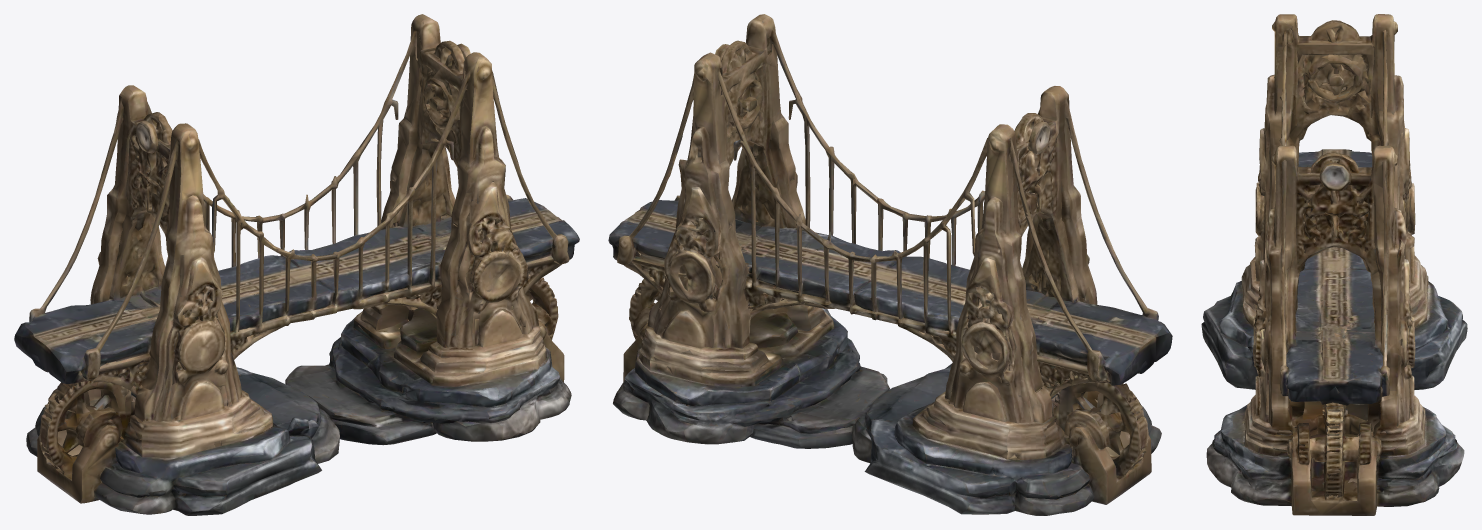
File: brass-bridge.glb
3 renders of one model, left to right at view 1: azimuth 30°, elevation 25°; view 2: azimuth 150°, elevation 25°; view 3: azimuth 270°, elevation 25°, orthographic. The views are drawn at different scales.
Parts seen in each view (by area): view 1: geometry_0; view 2: geometry_0; view 3: geometry_0.
Part boxes in pixels (x1,y1,x2,y2): geometry_0: (14, 14, 579, 515); geometry_0: (608, 14, 1172, 515); geometry_0: (1201, 14, 1467, 515).
Size of the model in its own units: 0.4497 by 0.3047 by 0.2174.
1 material, 1 textured.
